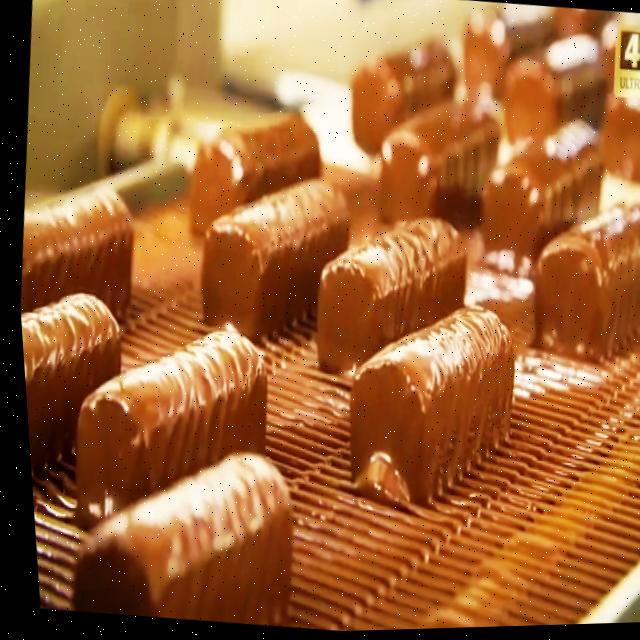Choco: (52, 303, 278, 544), (52, 430, 299, 628), (324, 288, 525, 523), (299, 200, 475, 388), (183, 163, 358, 350), (15, 279, 129, 496), (516, 187, 640, 369), (177, 98, 329, 246), (15, 181, 152, 308), (492, 119, 612, 254), (367, 109, 505, 224), (340, 46, 466, 143)
